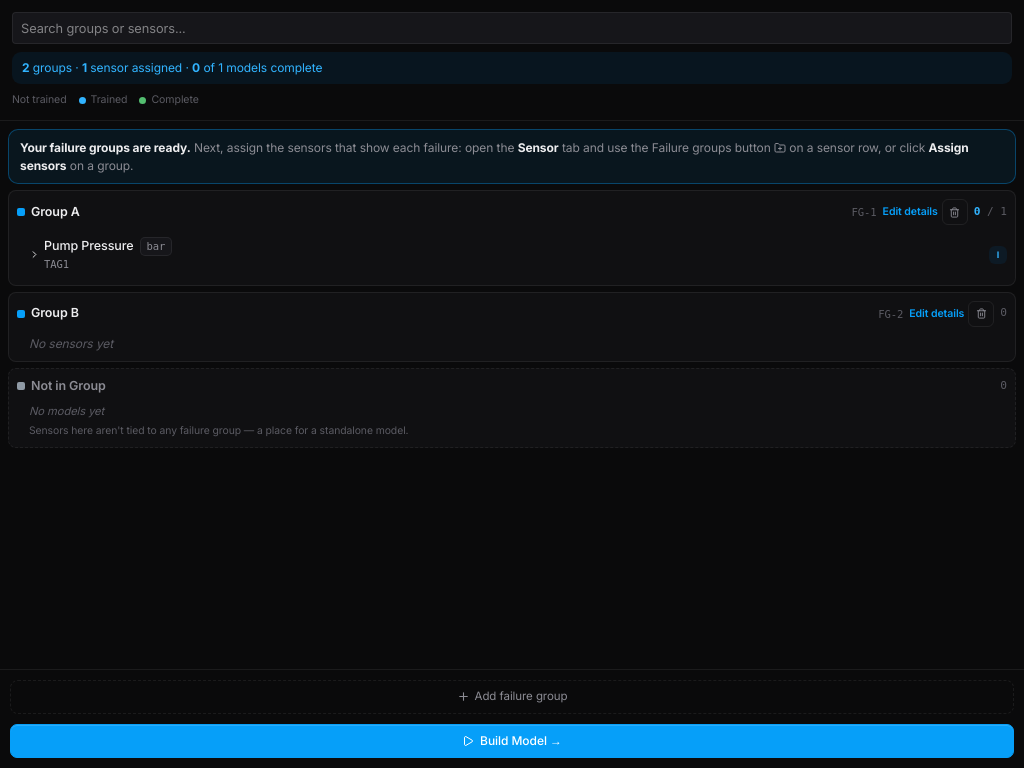
Test: FailureGroupsPanel › editing group details ("Edit details" panel) › rejects renaming to a name already used by another group, with an inline error
Click the button "Edit details" in the row of "Group A": (910, 212) [883,204,938,220]
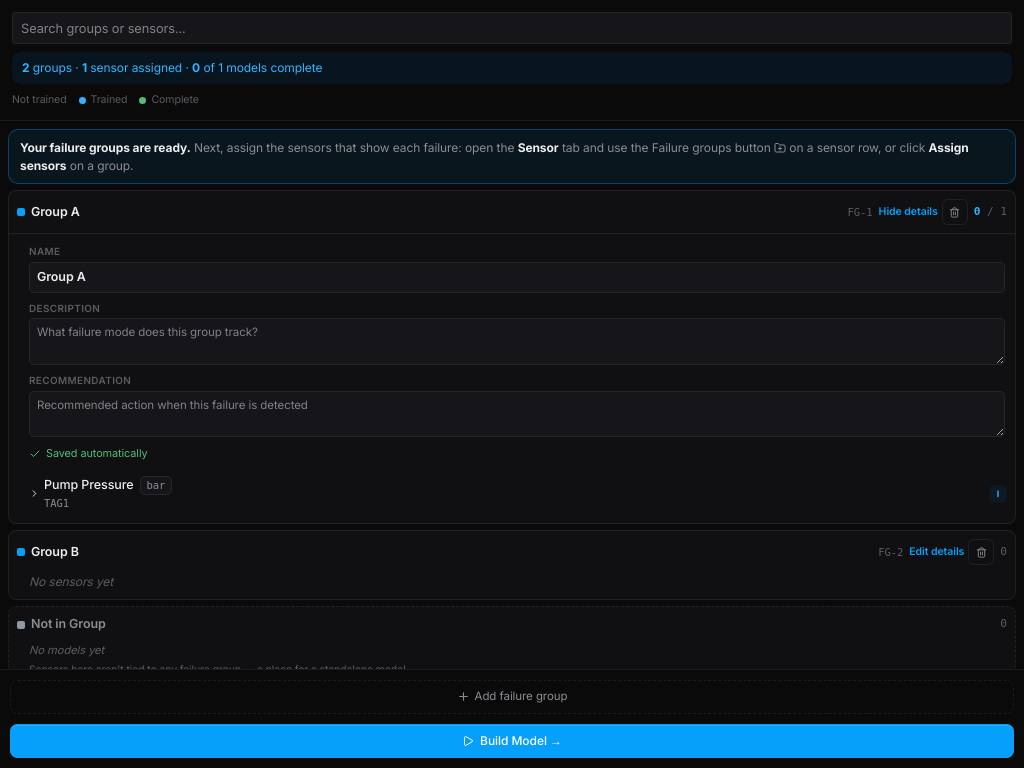
Replace the text in the field showing "Group A" with "group b": (517, 277) [29,262,1005,293]
Wait 250 ms
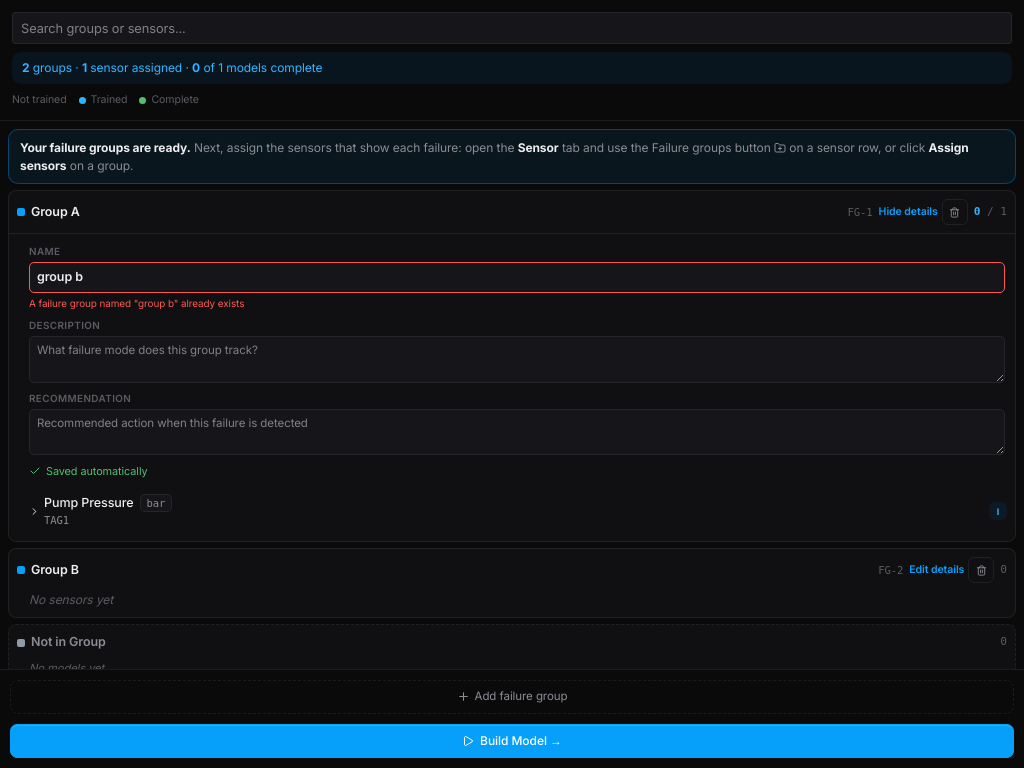
Expected: the text "A failure group named \"group b\" already exists" is shown, [29,297,244,309]
